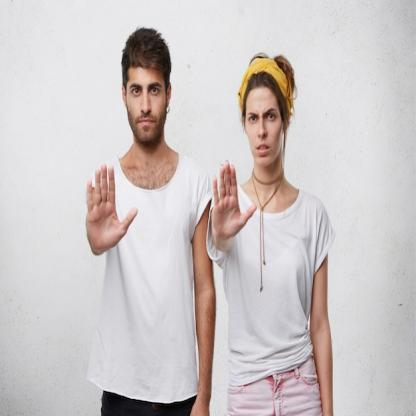stop: (83, 159, 139, 259), (209, 154, 257, 242)
